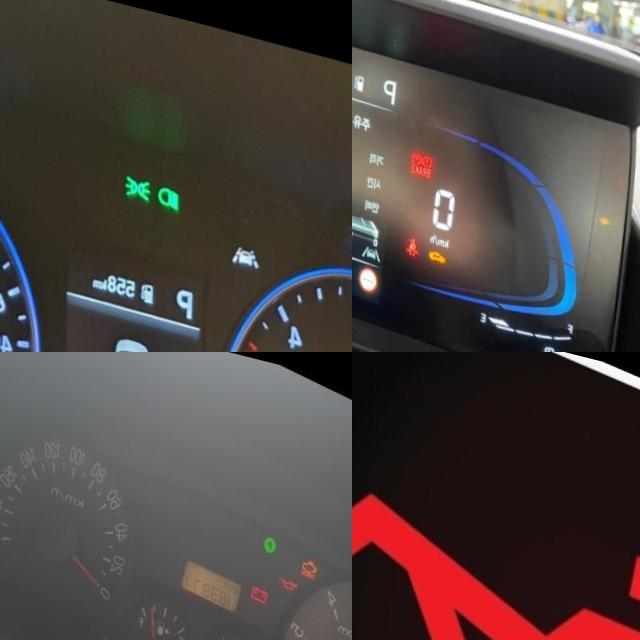LaneCenteringOff: (234, 227, 262, 252), (364, 226, 384, 244)
Low beam: (159, 170, 183, 199)
SideLamp: (126, 162, 153, 191)
